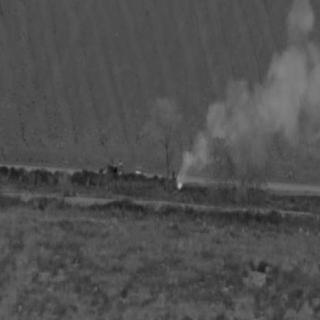Smoke: (210, 105, 227, 138)
